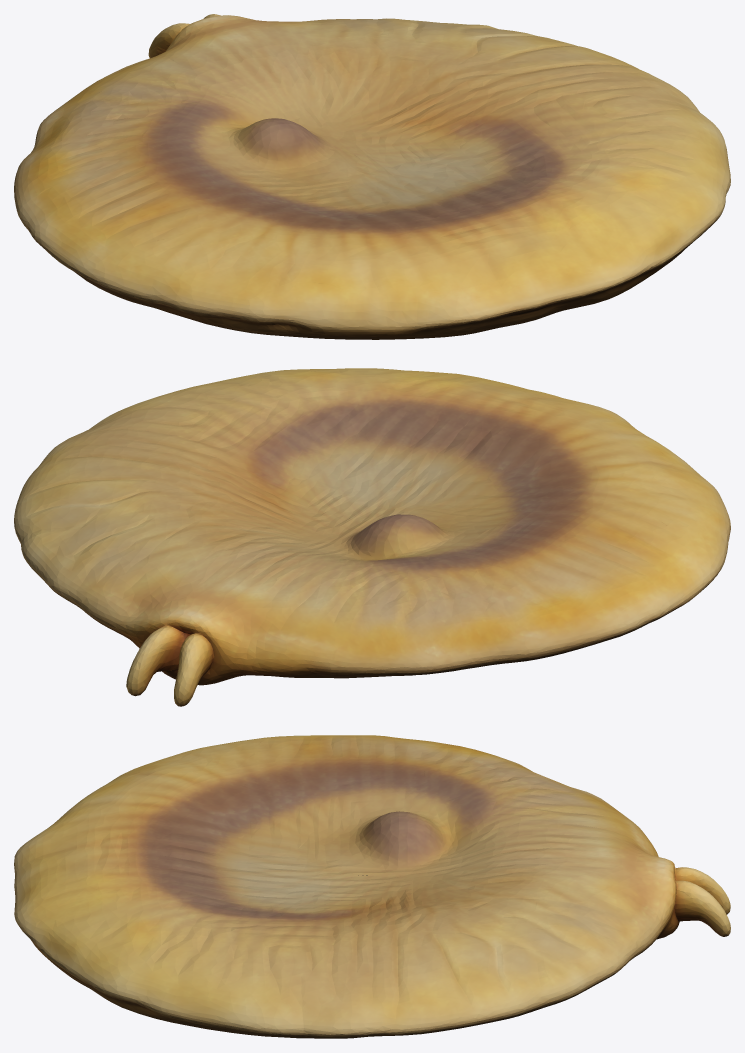
3 views of the same model, one above another, from view 1: azimuth 30°, elevation 25°; view 2: azimuth 150°, elevation 25°; view 3: azimuth 270°, elevation 25° (orthographic). The views are drawn at different scales.
Parts seen in each view (by area): view 1: world; view 2: world; view 3: world.
Part boxes in pixels (x1,y1,x2,y2): world: (14, 14, 730, 339); world: (14, 368, 730, 706); world: (14, 735, 730, 1038).
Bounding box in the file's own units: 0.9653 × 0.1202 × 1.
1 material, 1 textured.
